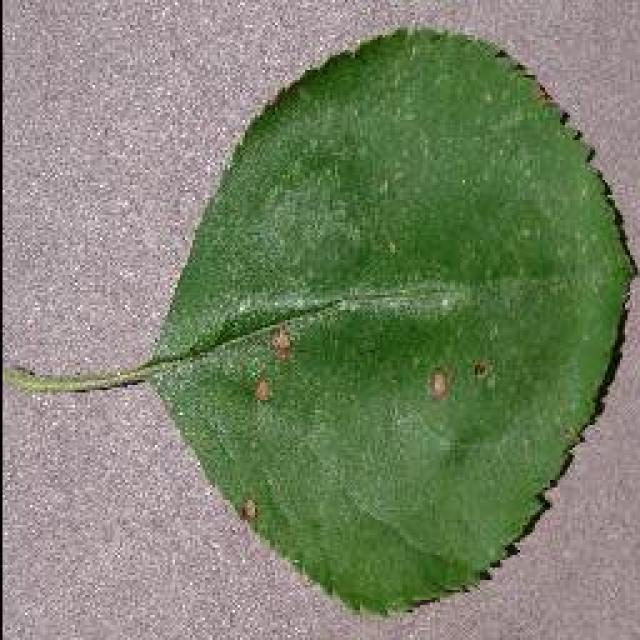Black_rot: (2, 20, 638, 620)
